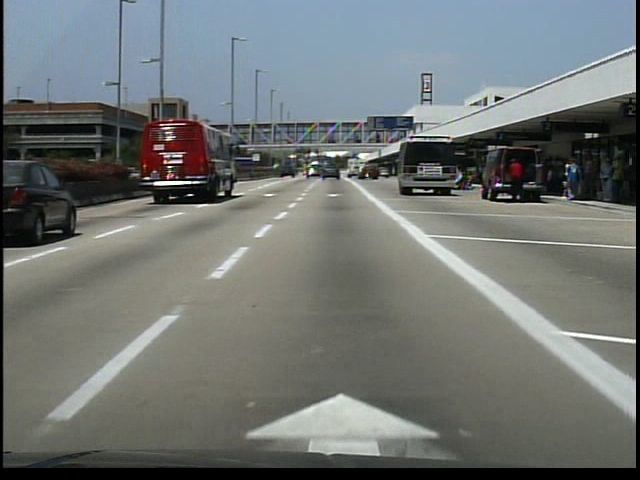person: (507, 155, 527, 208), (450, 167, 472, 193)
